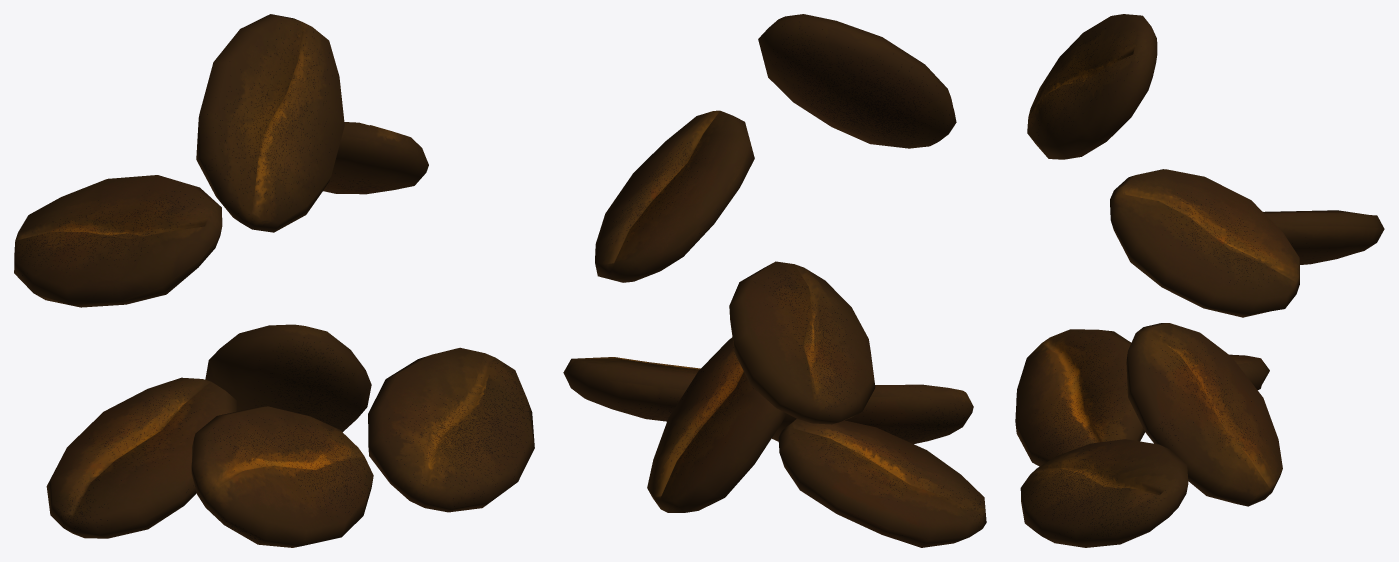
The model's file is 01-cafegrain-model.glb.
3 renders of one model, left to right at view 1: azimuth 30°, elevation 25°; view 2: azimuth 150°, elevation 25°; view 3: azimuth 270°, elevation 25°, orthographic. The views are drawn at different scales.
Visible parts, largest first — view 1: 01-cafegrain-model; view 2: 01-cafegrain-model; view 3: 01-cafegrain-model.
Boxes of the visible parts, x1,y1,x2,y2 form: 01-cafegrain-model: (14, 14, 534, 547); 01-cafegrain-model: (563, 14, 986, 547); 01-cafegrain-model: (1015, 14, 1384, 547).
Bounding box in the file's own units: 2.36 × 2.46 × 1.87.
1 material, 1 textured.
